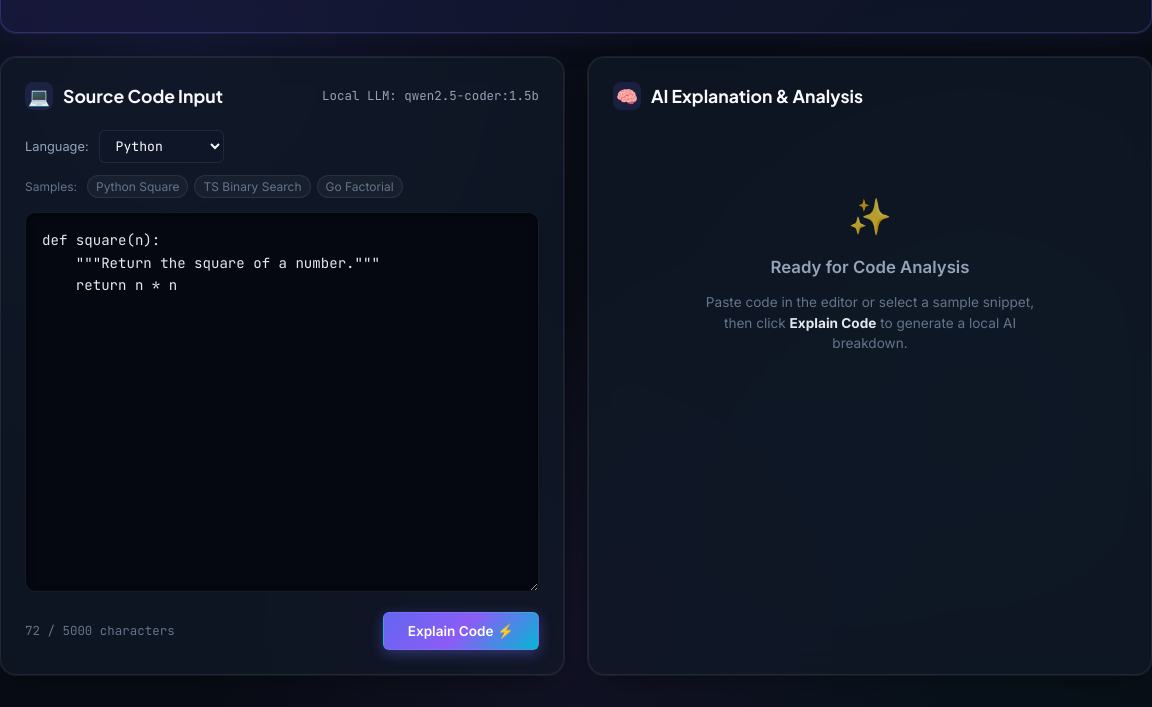
Test: CodeExplainerView Feature Integration › displays error state and retry option when API request fails
(page scrolled)
Click the button named "Explain Code with AI": (461, 631) [383, 612, 539, 650]
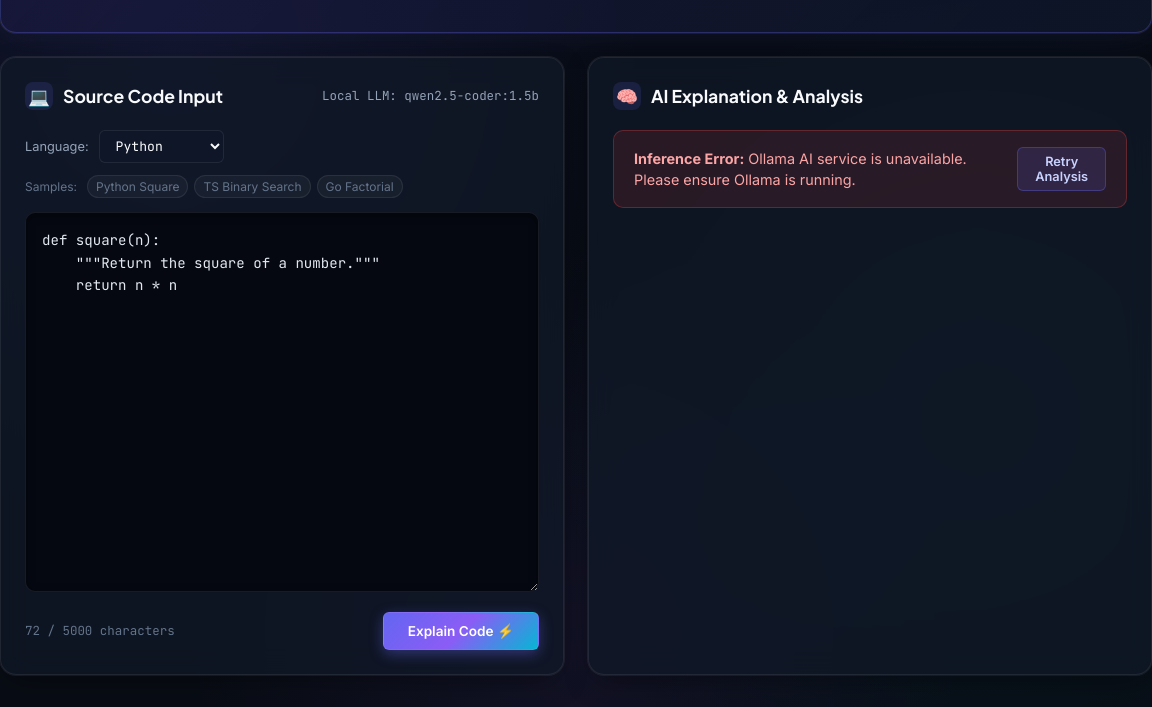
Expected: the message is shown, [613, 130, 1127, 208]
Expected: the text "Ollama AI service is unavailable" is shown, [634, 150, 967, 188]
Expected: the button "Retry Analysis" is shown, [1017, 147, 1106, 191]
